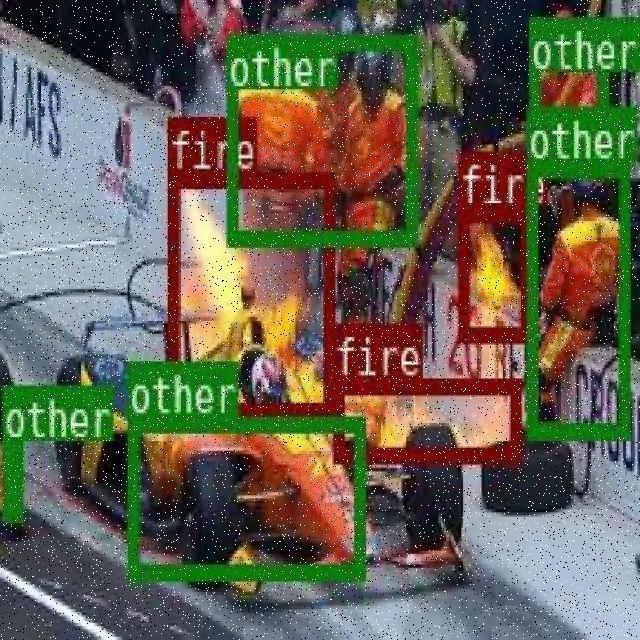Smoke: (224, 33, 416, 244), (126, 414, 362, 576), (526, 160, 628, 436), (528, 13, 606, 132), (1, 438, 20, 517)
